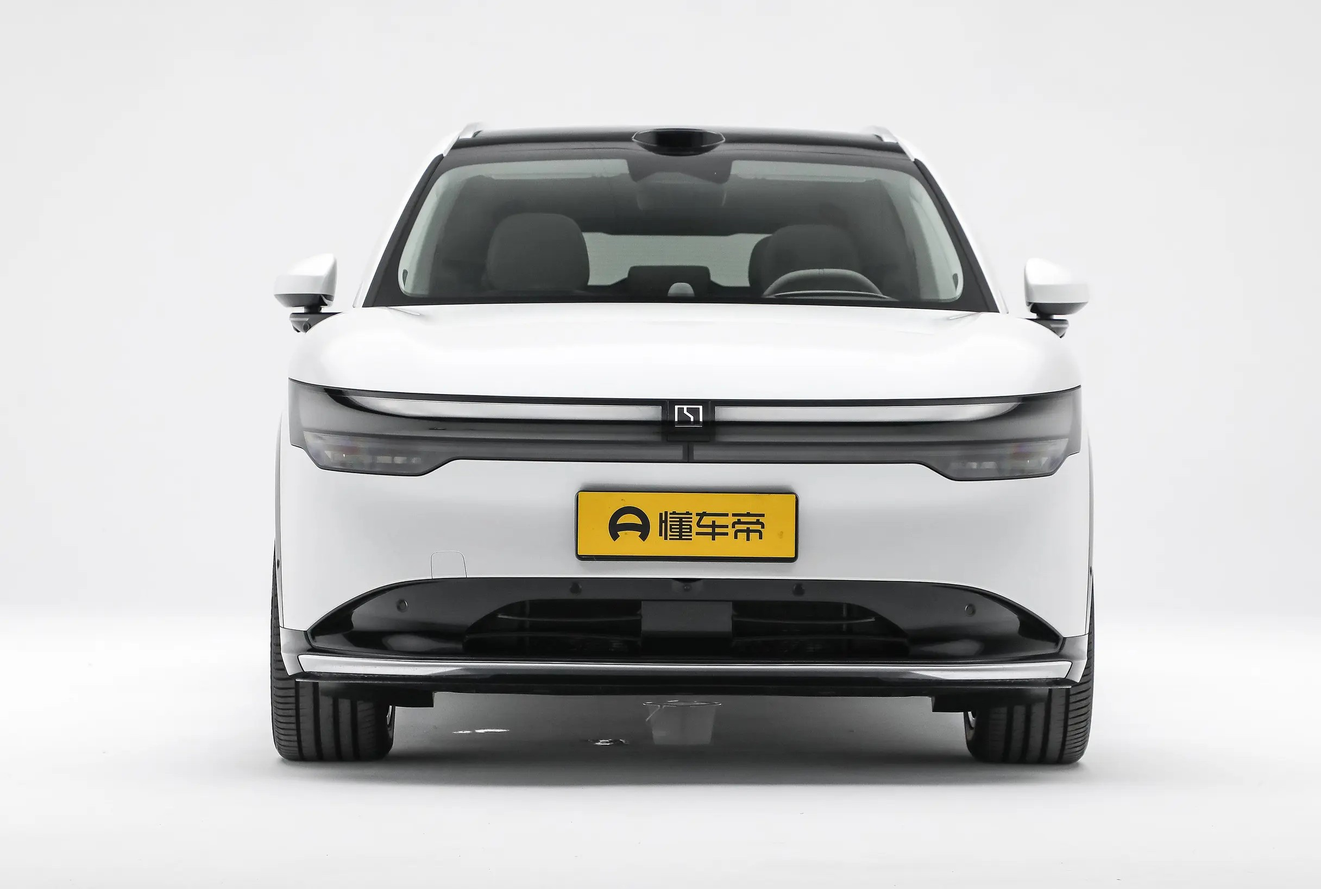ZEEKR: (675, 406, 702, 426)
